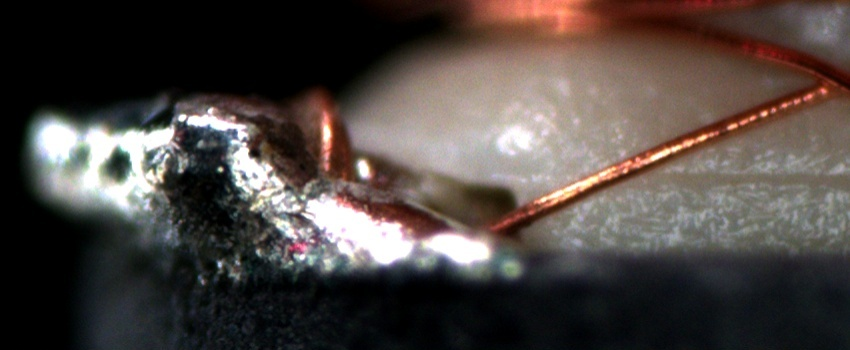CL: (794, 52, 849, 103)
DL: (507, 150, 850, 203)
TE: (301, 88, 362, 181)
